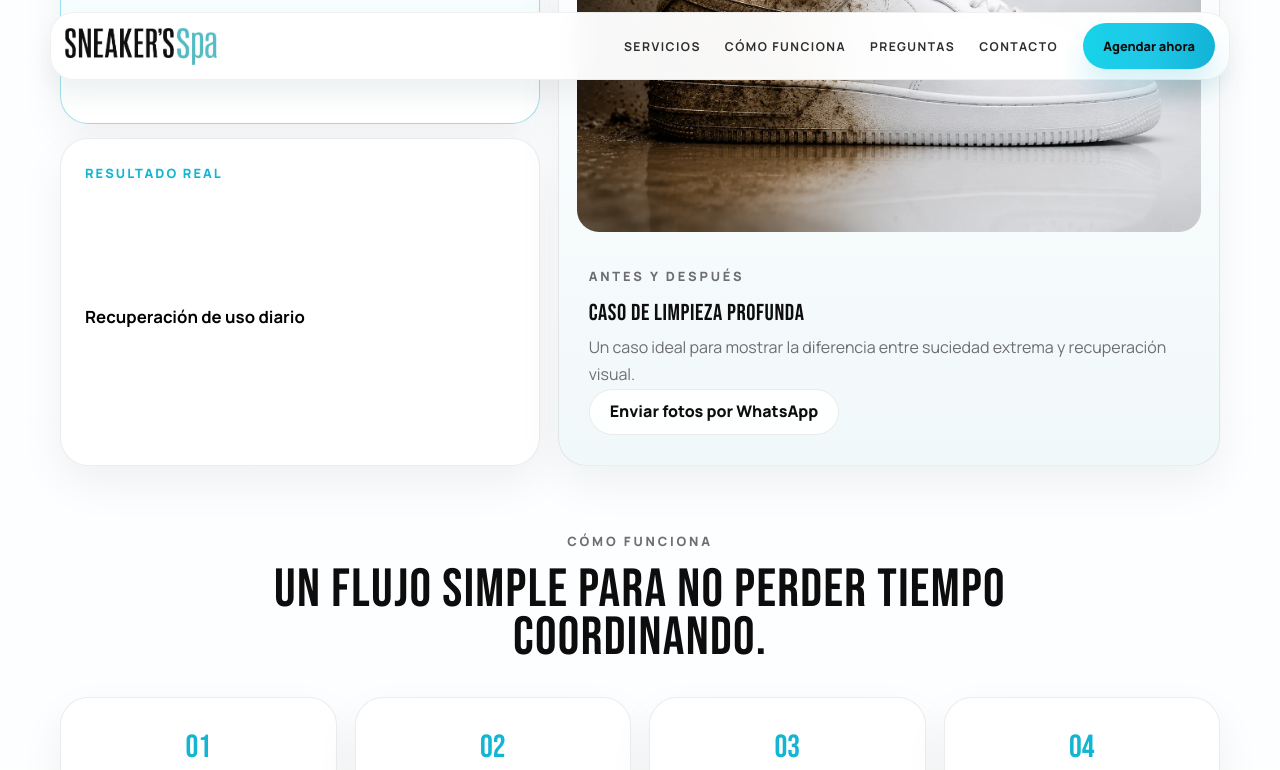
App › changes the showcase case and tracks the interaction
(page scrolled)
What coordinates should you click on to do the following:
click the button "Resultado real Recuperación de uso diario"
I would click on:
 (300, 302)
Its box is [60,138,540,466].
(page scrolled)
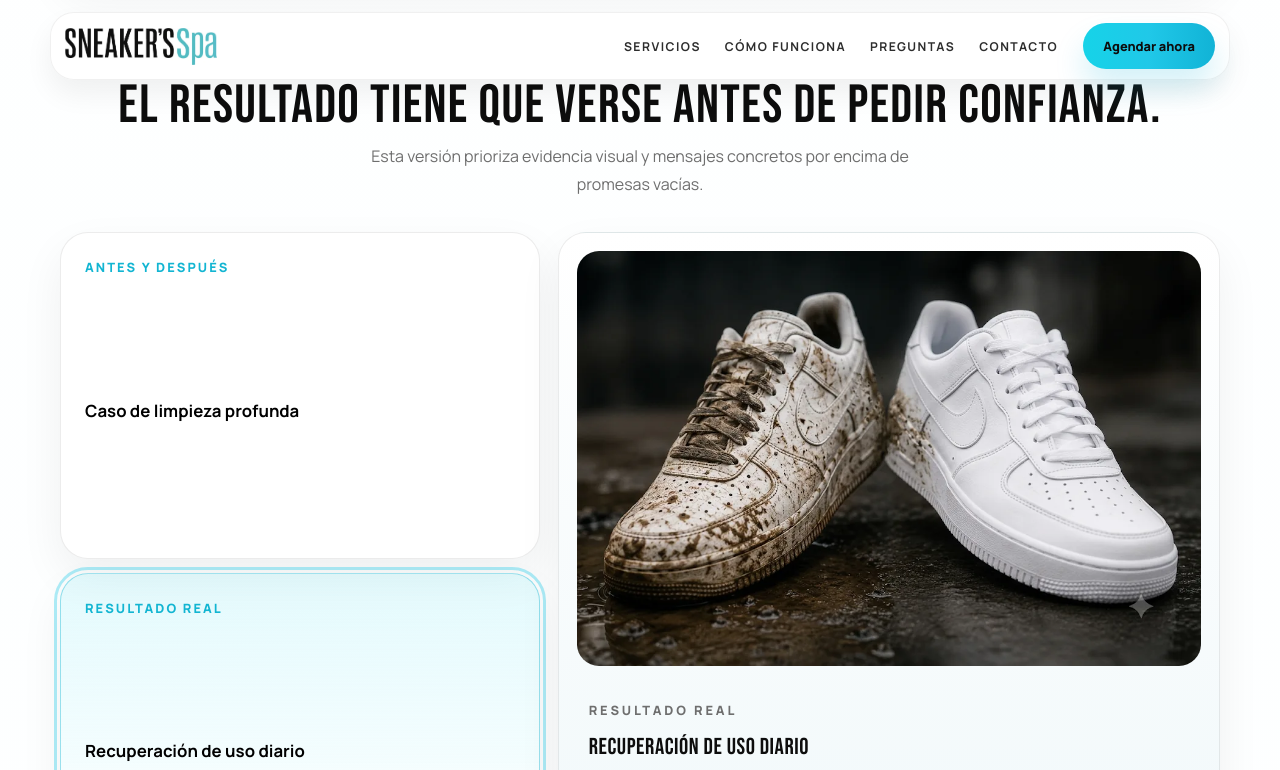
Expected: the picture named "recuperación de uso diario" is shown, [577,251,1201,666]
